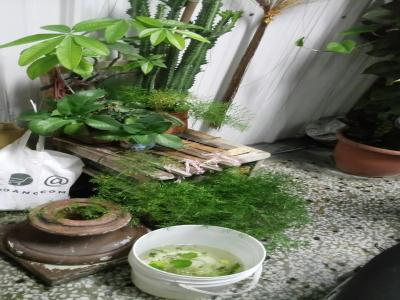bucket: (125, 220, 271, 300)
plastic_bag: (1, 147, 81, 212)
